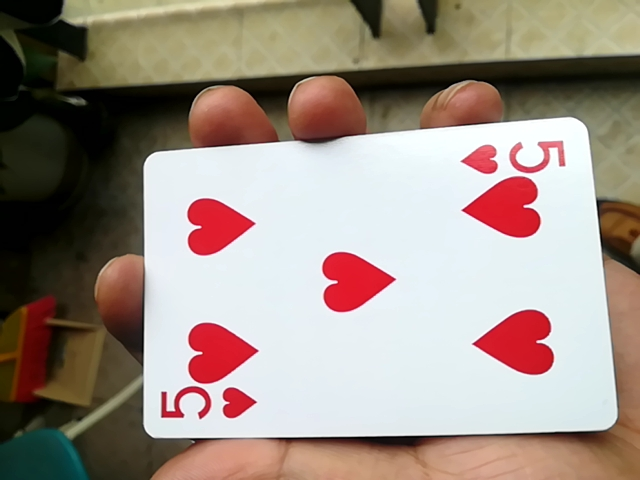hx 5: (133, 121, 608, 449)
